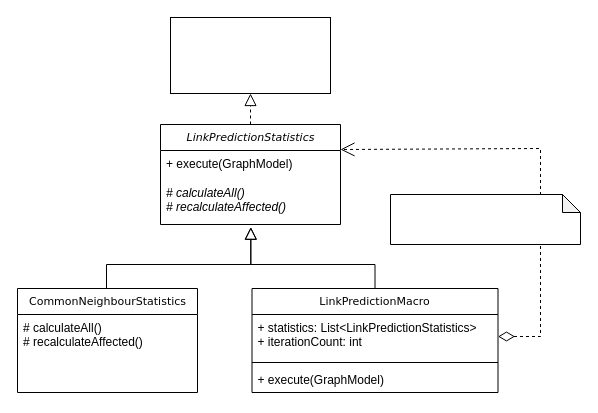
The diagram is 598 pixels wide and 413 high, and some of its shapes have lost their labels. The centre of each missing label's shape, as x and y in pixels:
"<<Interface>> Statistics + execute(GraphModel)" goes at pixel 250 55.
"statistics.stream() .foreach(s -> s.execute());" goes at pixel 485 219.
